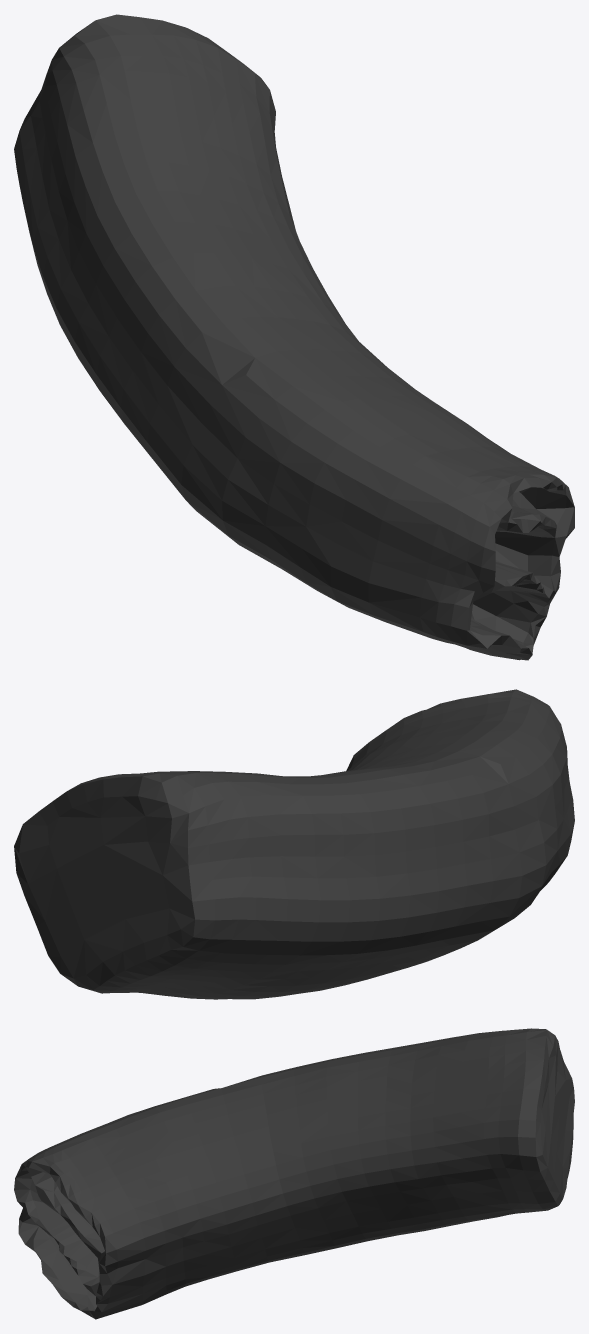
The picture shows the model from 3 angles, top to bottom: view 1: azimuth 30°, elevation 25°; view 2: azimuth 150°, elevation 25°; view 3: azimuth 270°, elevation 25°; orthographic projection. The views are drawn at different scales.
Parts seen in each view (by area): view 1: world; view 2: world; view 3: world.
Boxes of the visible parts, <box> form: world: <box>14,14,574,660</box>; world: <box>14,689,574,999</box>; world: <box>14,1028,574,1319</box>.
Size of the model in its own units: 0.1834 by 0.2241 by 0.4333.
Materials: 1 (1 with a texture image).
